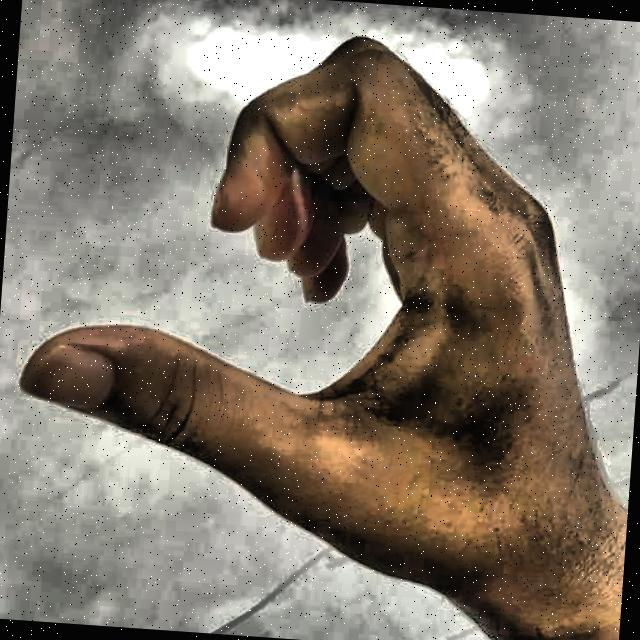Kha: (0, 0, 636, 636)
